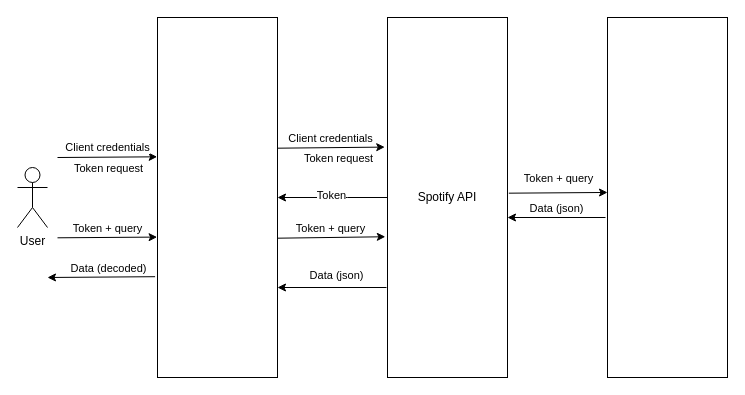
This 745x395 diagram has some shape labels left out. Each missing label, with the centre of its shape:
"App" goes at pixel 217 197.
"Spotify DB" goes at pixel 667 197.
